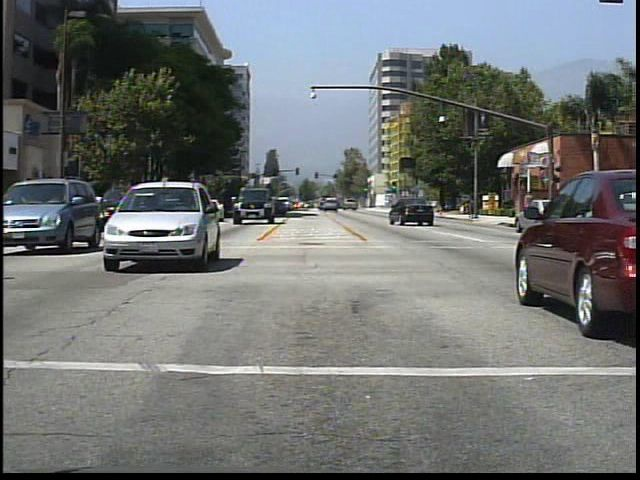person: (566, 190, 586, 235), (520, 192, 537, 229)
